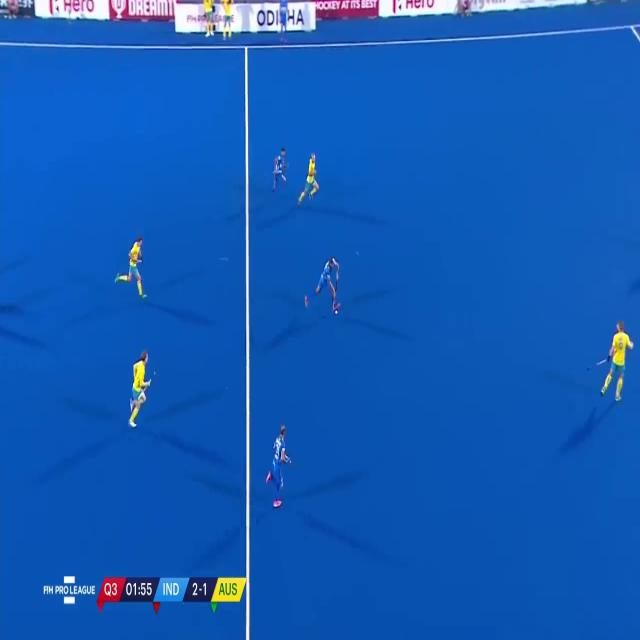ball: (330, 304, 342, 318)
